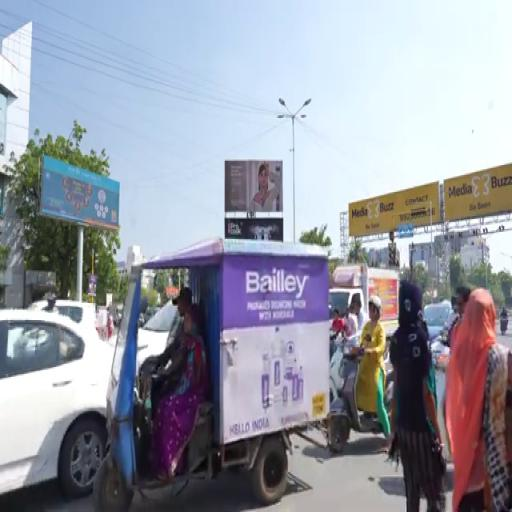Car: (0, 309, 113, 499), (137, 302, 179, 369), (431, 340, 451, 462), (55, 299, 99, 338), (424, 301, 452, 341)
